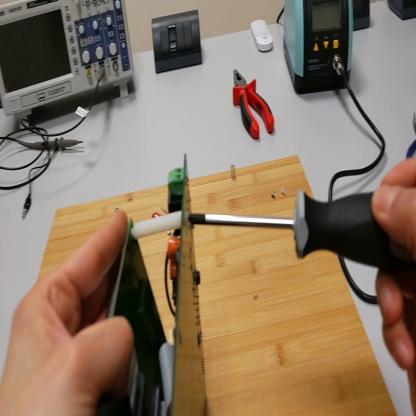hand: (2, 212, 135, 416), (372, 154, 415, 396)
low voltage board: (94, 155, 206, 415)
oscilloscope: (2, 1, 134, 132)
oscilloscope probe tip: (24, 138, 84, 150)
pliers: (233, 68, 274, 143)
screwdriver-: (187, 193, 415, 275)
socket: (389, 1, 416, 23), (352, 3, 371, 33)
welder station: (285, 2, 355, 95)
working area: (41, 154, 399, 415)
